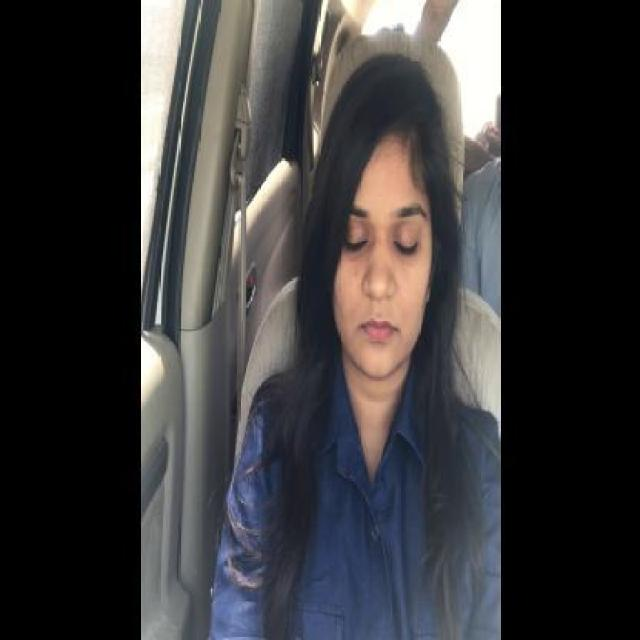sleepy: (326, 197, 448, 386)
